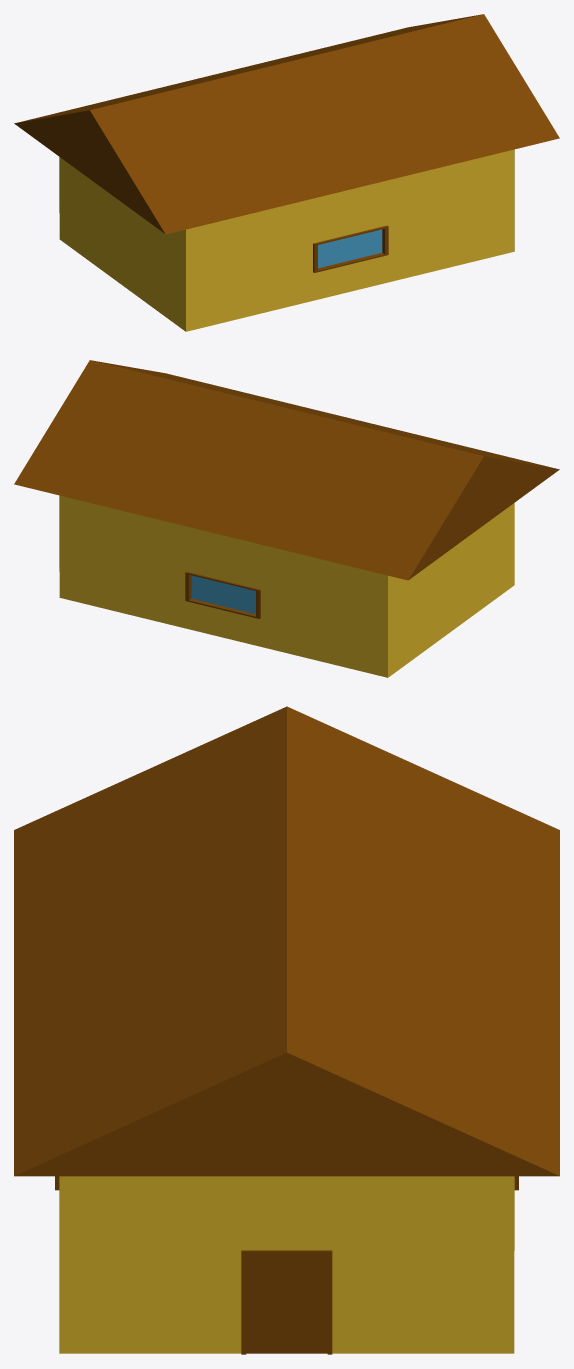
File: casinha1.fbx
3 renders of one model, top to bottom at view 1: azimuth 30°, elevation 25°; view 2: azimuth 150°, elevation 25°; view 3: azimuth 270°, elevation 25°, orthographic. The views are drawn at different scales.
Visible parts, largest first — view 1: Cube.001; view 2: Cube.001; view 3: Cube.001.
Part boxes in pixels (box(x1,y1,x2,y2)): Cube.001: box(14, 14, 559, 331); Cube.001: box(14, 360, 559, 677); Cube.001: box(14, 706, 559, 1354).
Bounding box in the file's own units: 1800 × 800 × 1200.
